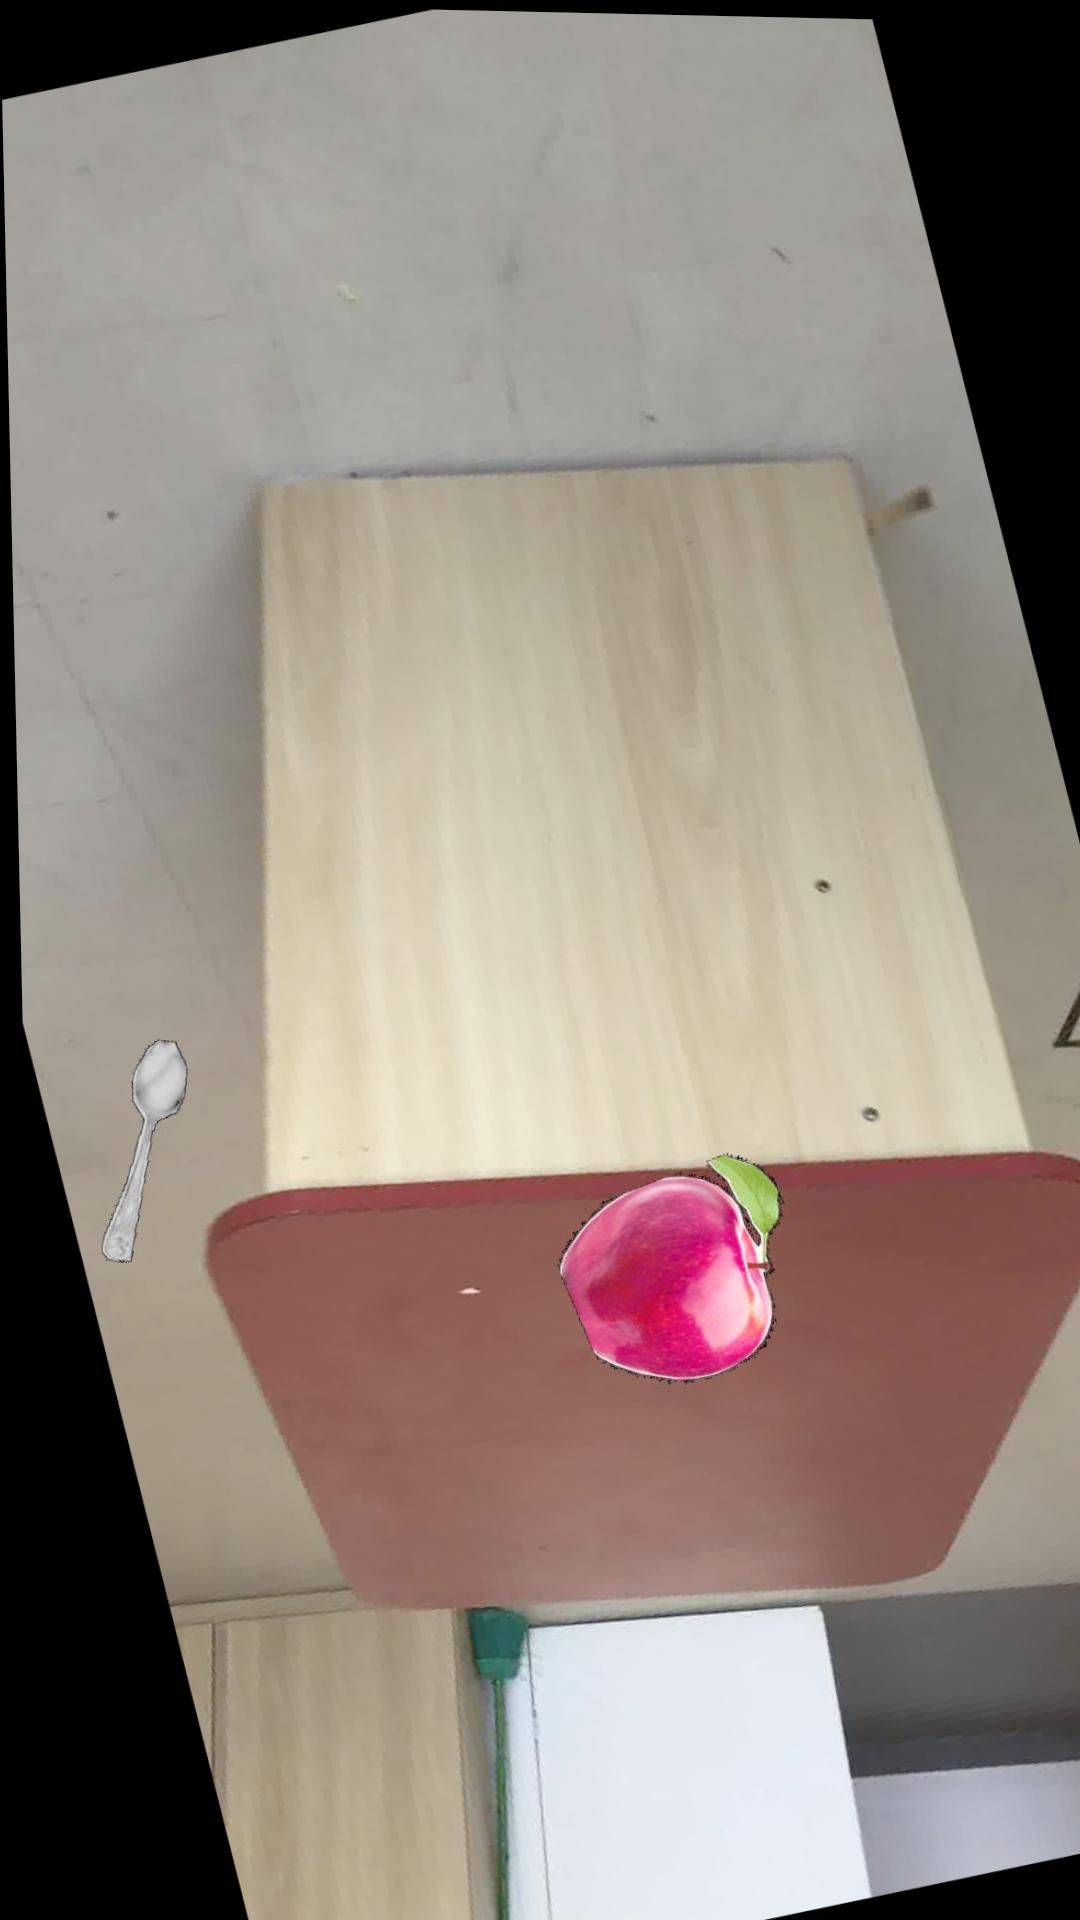apple: (550, 1151, 778, 1383)
spoon: (95, 1040, 182, 1263)
